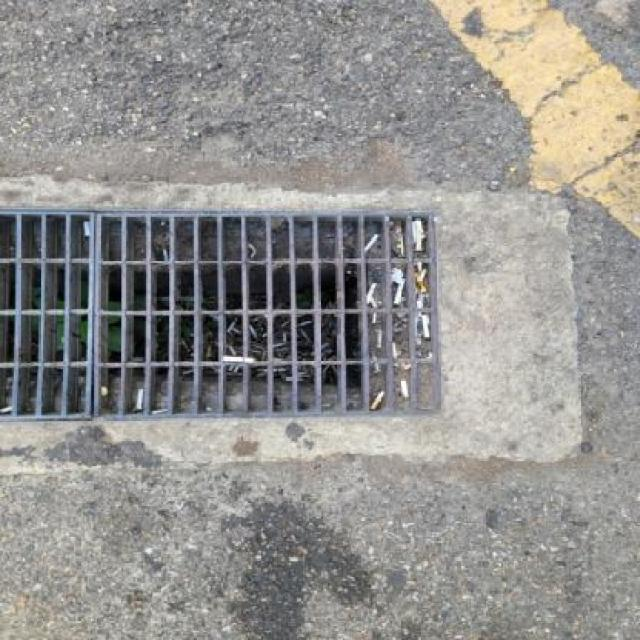Drain Hole: (18, 190, 475, 441)
